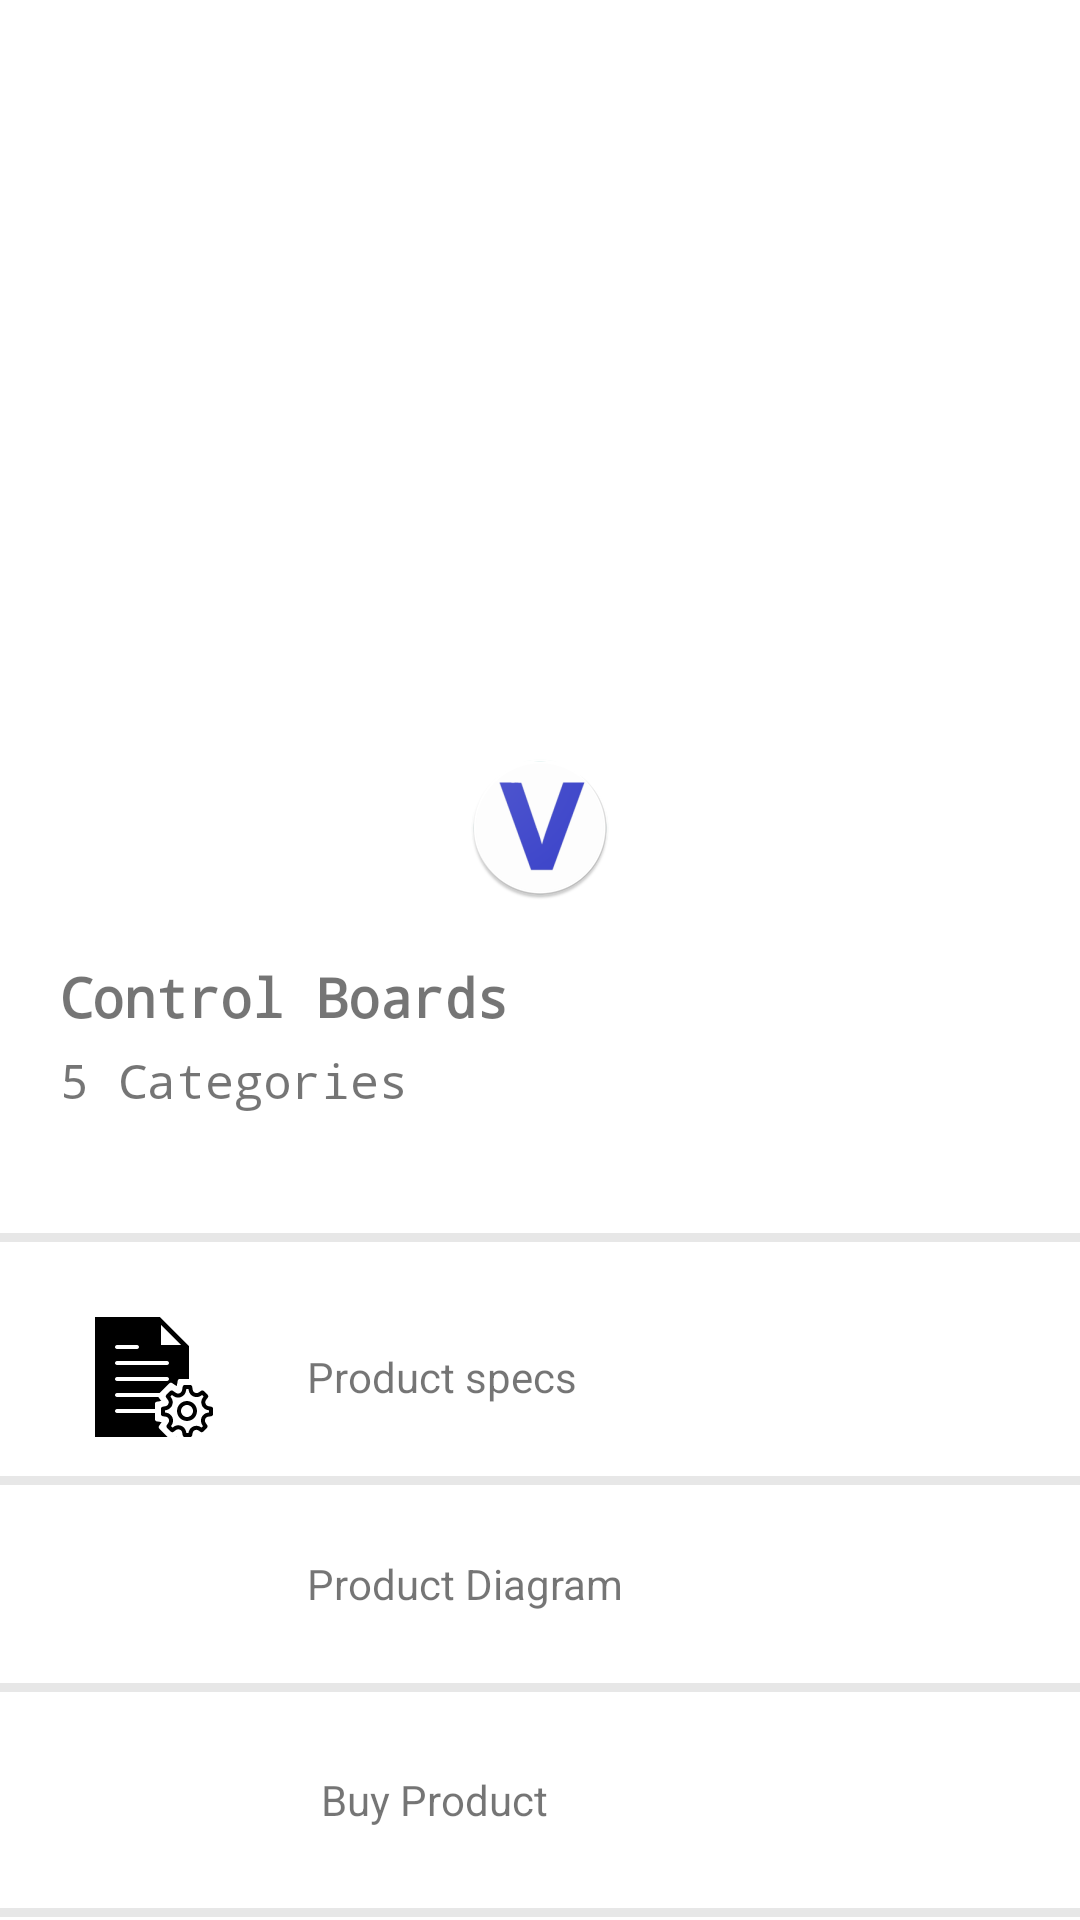

Where icons sit on this 1080*1920 app screen, as (x1, y1, x2, y2):
document: (95, 1317, 213, 1437)
